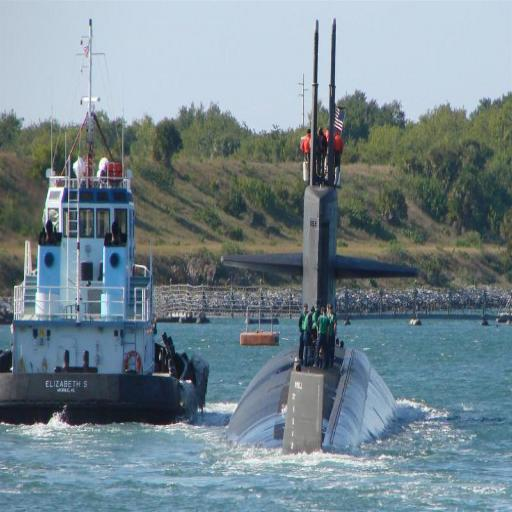submarine: (228, 180, 406, 456)
